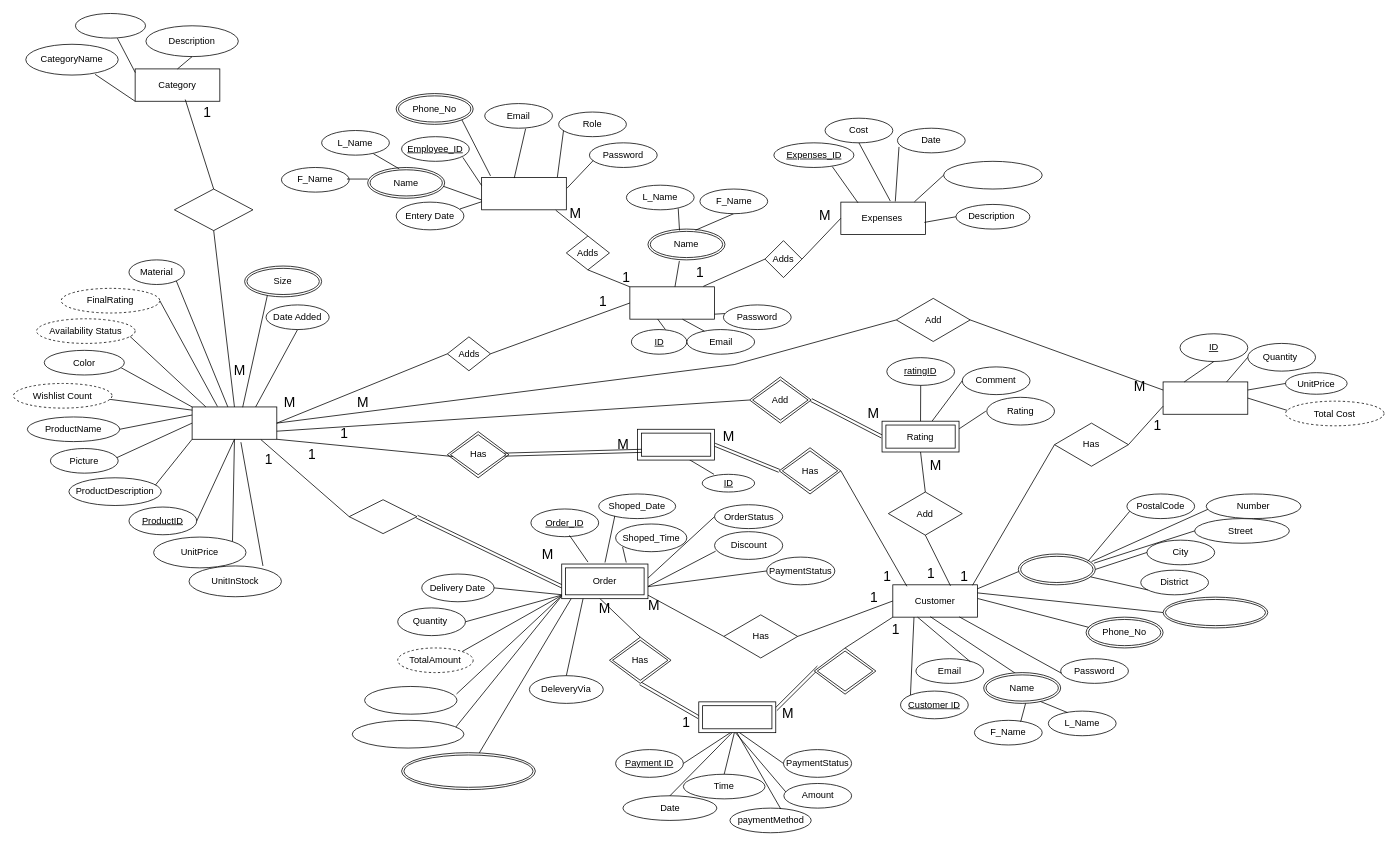
The diagram is 1398 pixels wide and 846 high, and some of its shapes have lost their labels. Each missing label, with the centre of its shape:
"Address" belongs at point 1056,569.
"Admin" belongs at point 672,302.
"Belongs to" belongs at point 213,209.
"Cart" belongs at point 1205,397.
"Category ID" belongs at point 110,25.
"Currier employee Id" belongs at point 410,700.
"Currier employee Name" belongs at point 408,734.
"Currier employee Phone Num" belongs at point 468,771.
"Employee" belongs at point 523,193.
"Expenses Name" belongs at point 992,175.
"Favourute" belongs at point 676,444.
"Gives" belongs at point 382,516.
"Makes" belongs at point 845,670.
"Notification Details" belongs at point 1215,612.
"Payment" belongs at point 737,717.
"Product" belongs at point 234,422.
